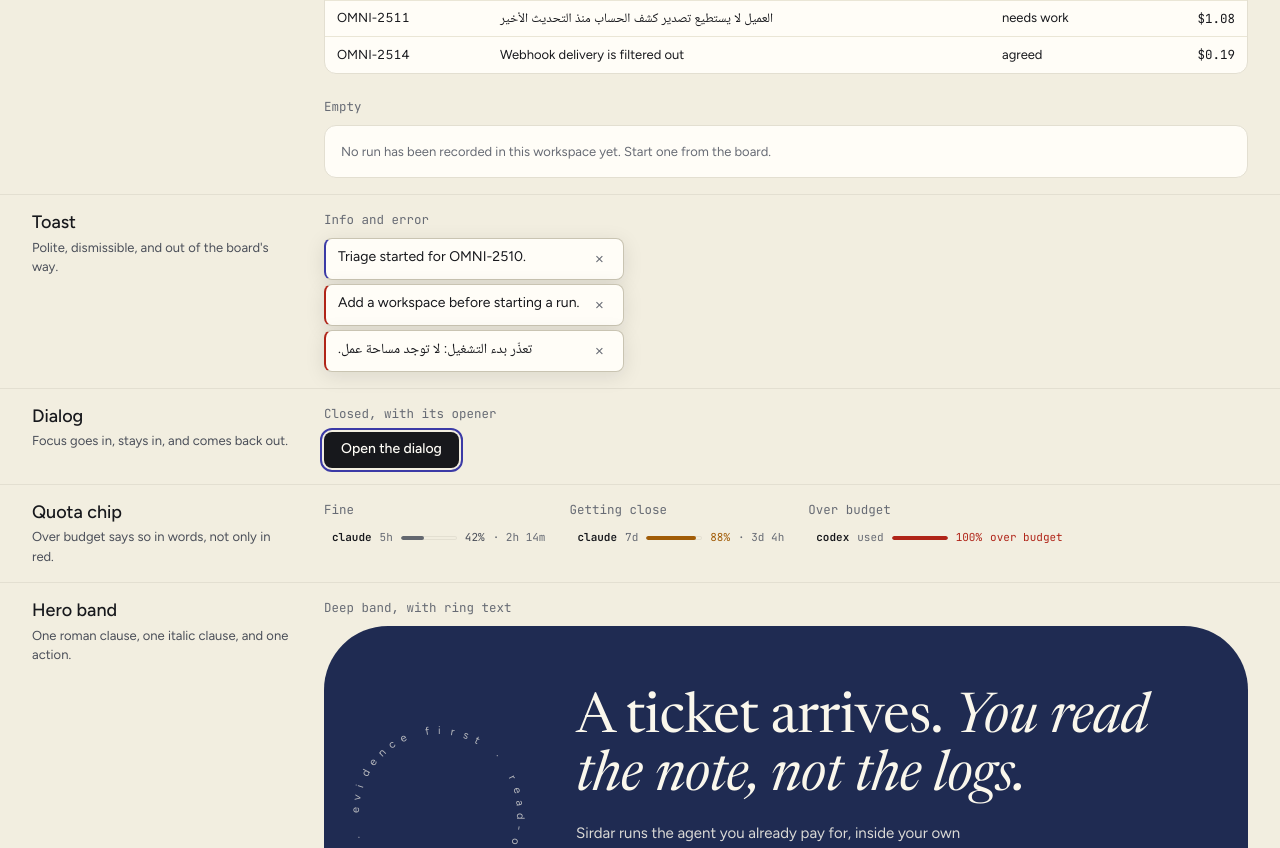
it: the asset library › as it opens › opens the dialog specimen and gives it back its opener
Click the button "Open the dialog" at (391, 450), box [324, 432, 459, 468]
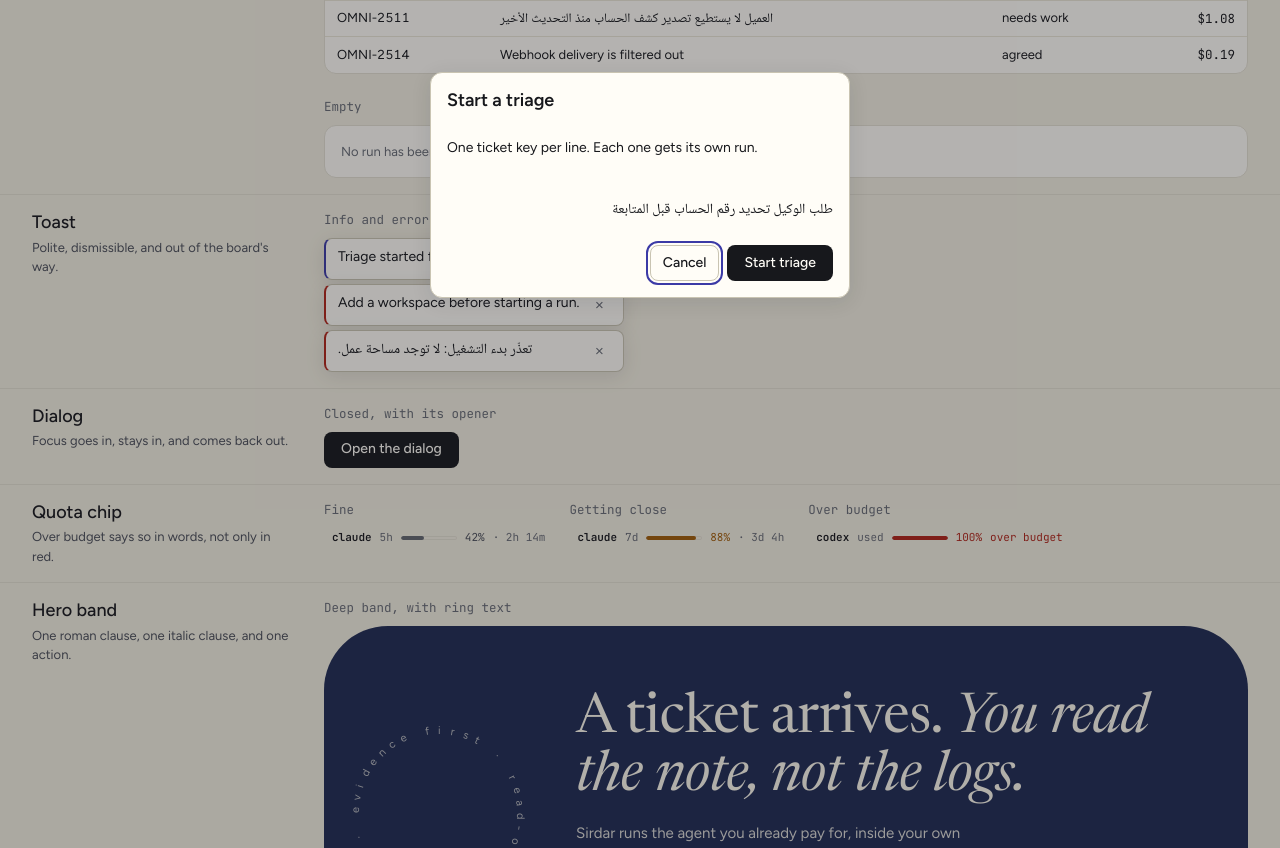
Expected: the dialog "Start a triage" is shown, [430, 72, 850, 298]
Click the button "Cancel" at (685, 263), box [650, 245, 719, 281]
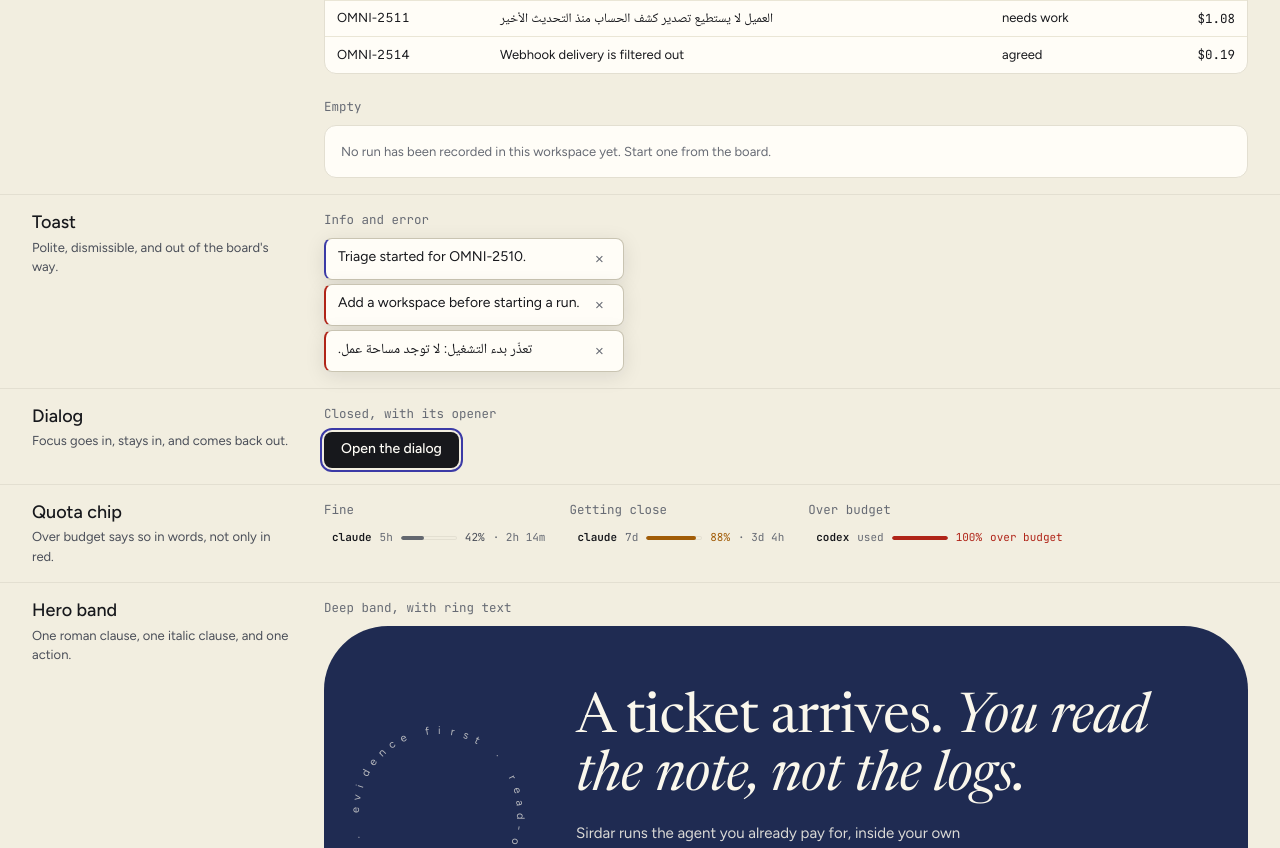
Expected: the dialog is gone
